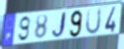4: (104, 6, 117, 34)
8: (34, 14, 49, 41)
9: (69, 9, 84, 38), (17, 16, 31, 43)
J: (51, 11, 68, 40)
U: (85, 7, 103, 35)
